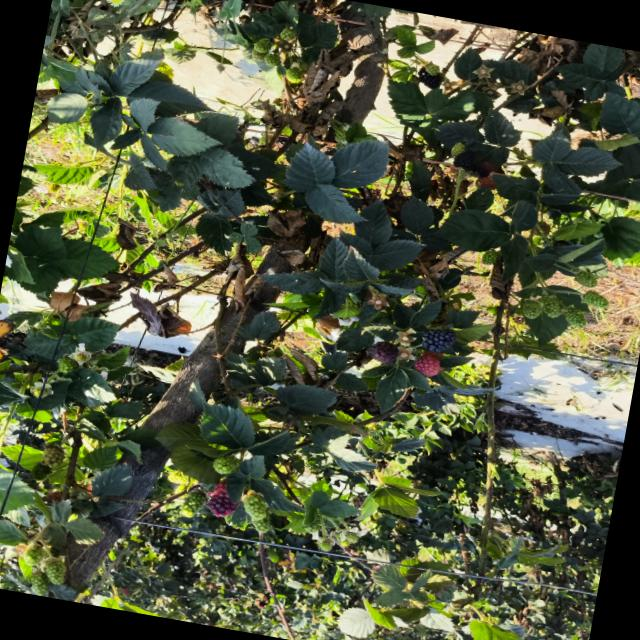maduro: (422, 329, 456, 352), (418, 67, 442, 88), (453, 151, 475, 169)
marron: (206, 482, 238, 516), (370, 341, 398, 363), (414, 354, 440, 376), (473, 162, 493, 177), (476, 175, 495, 189)
verde: (243, 492, 267, 520), (180, 491, 205, 517), (540, 295, 564, 318), (212, 455, 238, 474), (582, 291, 608, 309), (565, 307, 586, 327), (520, 299, 542, 318), (575, 270, 597, 287), (252, 513, 270, 533), (481, 249, 500, 264), (285, 68, 302, 83), (254, 39, 272, 53), (279, 27, 296, 41), (450, 142, 465, 157), (251, 49, 266, 64), (264, 53, 280, 66), (424, 62, 439, 75)
